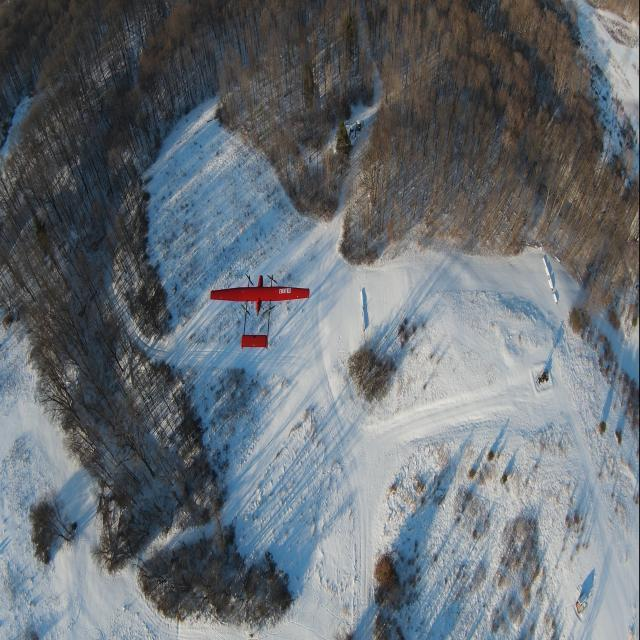iha: (239, 299, 279, 325)
